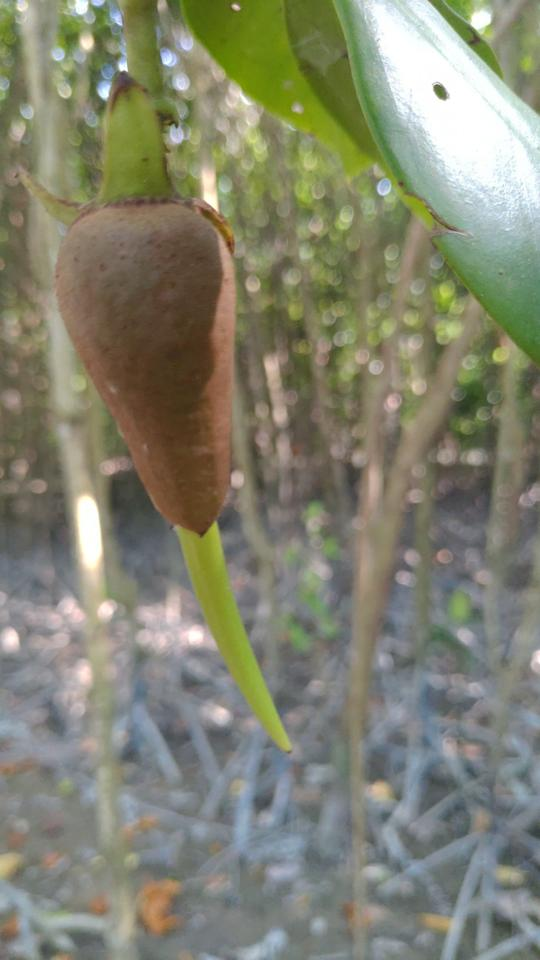mentah: (2, 40, 317, 778)
